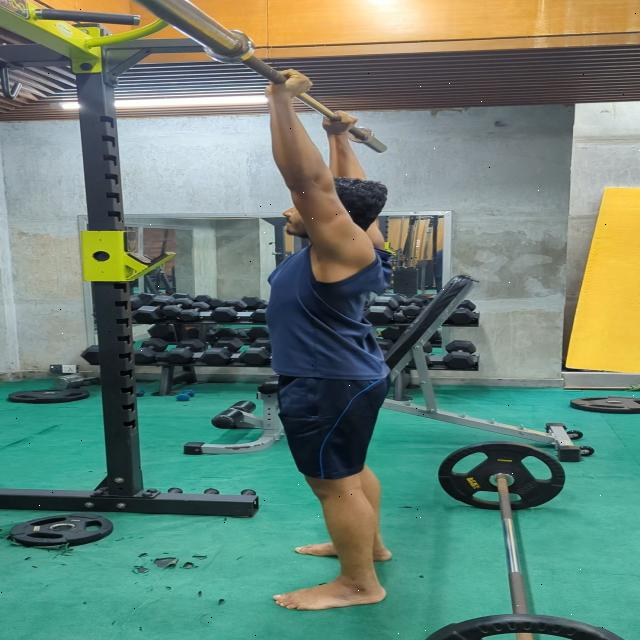Normal_OverheadPress: (213, 51, 444, 616)
